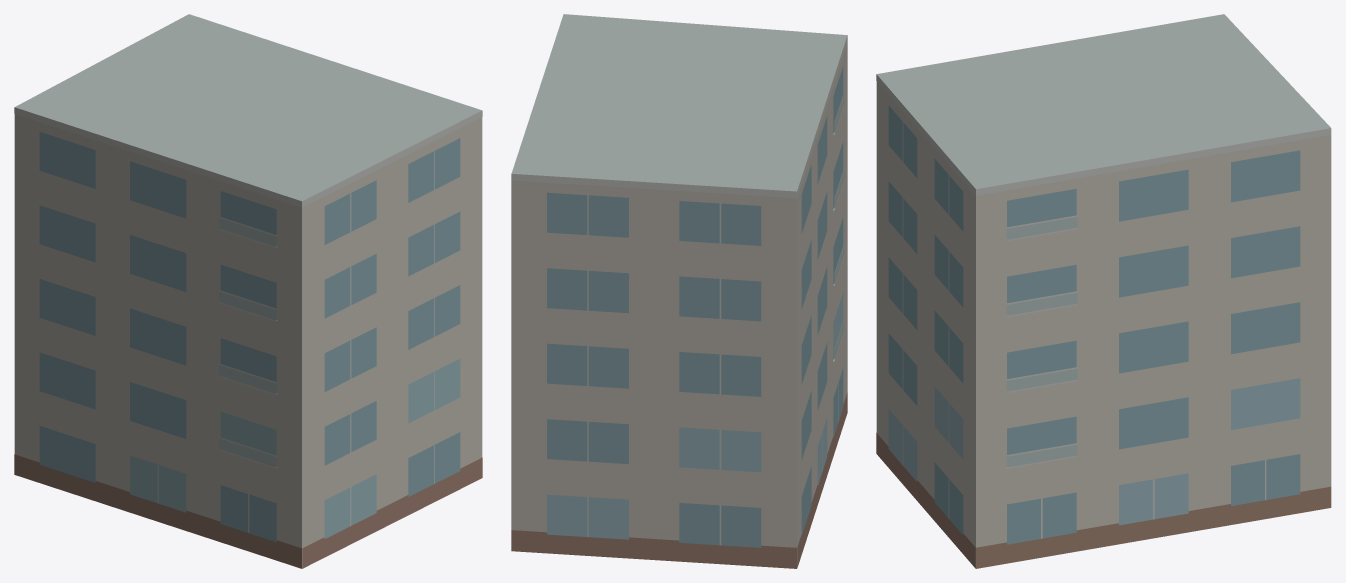
Rendered from survey-upis-32883427.glb.
3 renders of one model, left to right at view 1: azimuth 30°, elevation 25°; view 2: azimuth 150°, elevation 25°; view 3: azimuth 270°, elevation 25°, orthographic. The views are drawn at different scales.
Parts seen in each view (by area): view 1: survey-upis-32883427.tmp; view 2: survey-upis-32883427.tmp; view 3: survey-upis-32883427.tmp.
Boxes of the visible parts, x1=… form: survey-upis-32883427.tmp: x1=14, y1=14, x2=482, y2=568; survey-upis-32883427.tmp: x1=511, y1=14, x2=847, y2=568; survey-upis-32883427.tmp: x1=876, y1=14, x2=1331, y2=568.
Size of the model in its own units: 13.77 by 13.9 by 15.11.
